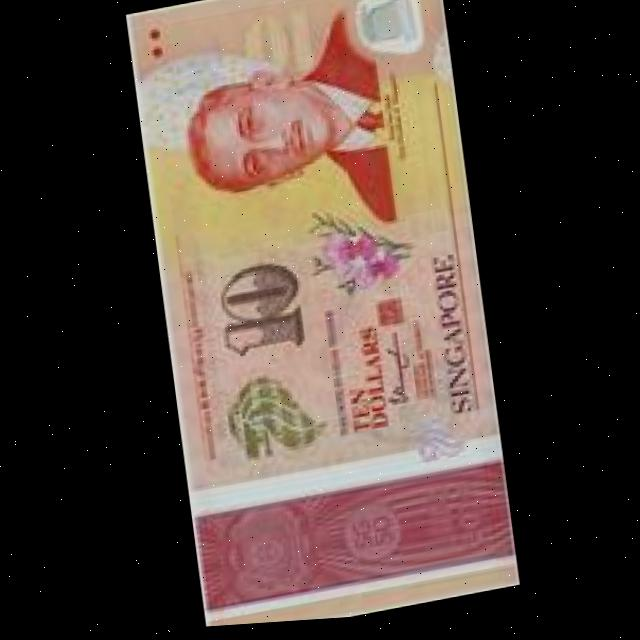banknote: (122, 0, 518, 634), (201, 253, 321, 375)
